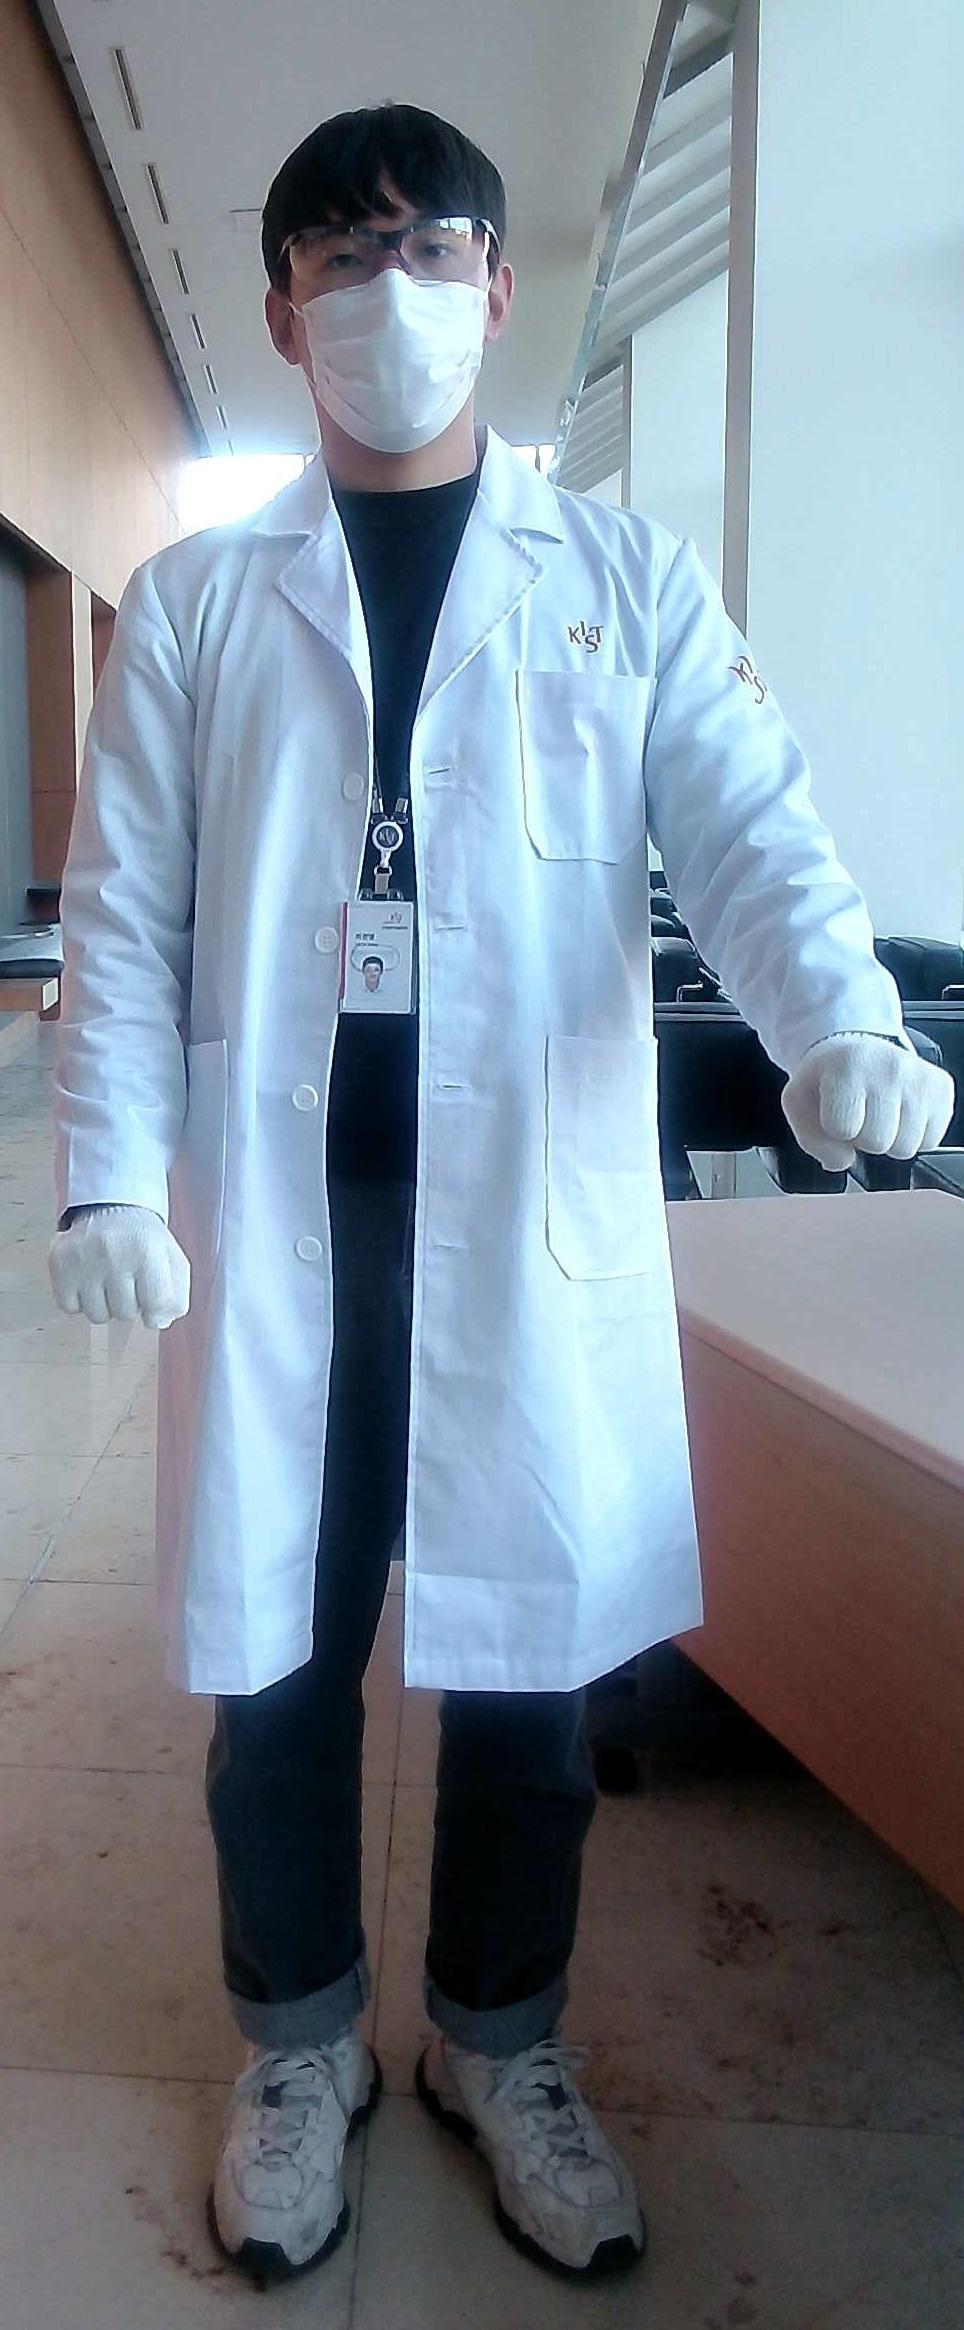lab_coat: (162, 536, 720, 1710)
